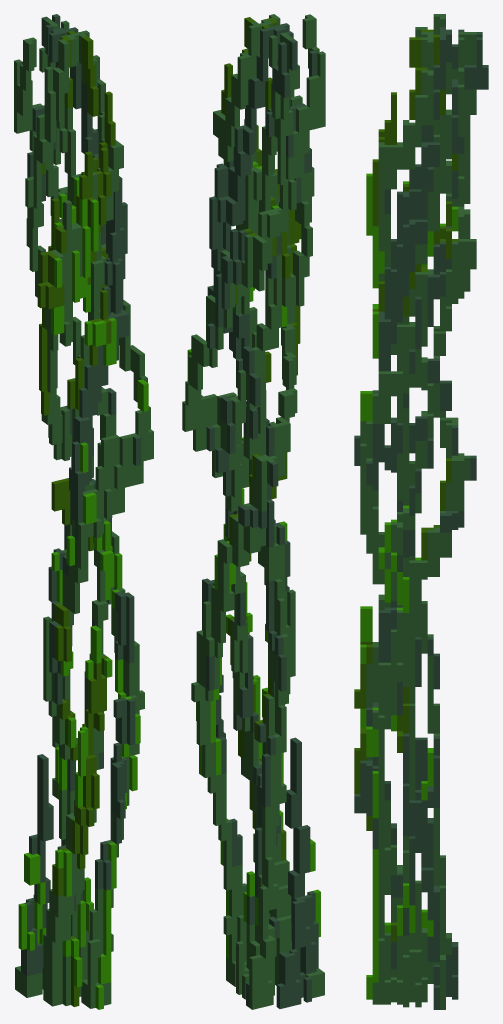
Rendered from tsuru.obj.
3 renders of one model, left to right at view 1: azimuth 30°, elevation 25°; view 2: azimuth 210°, elevation 25°; view 3: azimuth 270°, elevation 25°, orthographic. The views are drawn at different scales.
Bounding box in the file's own units: 2 × 17.4 × 2.2.
1 material, 1 textured.
